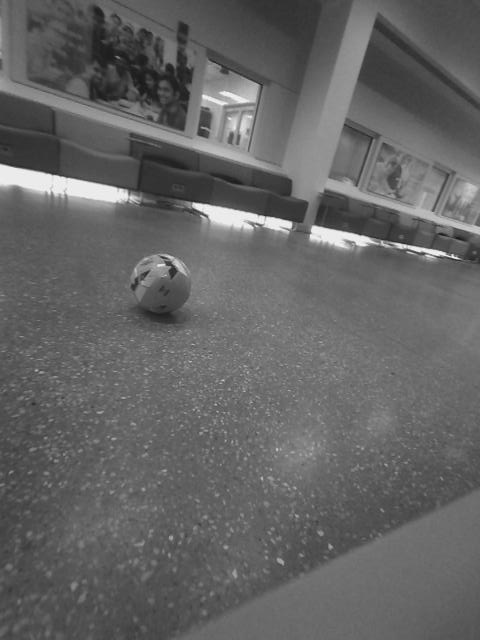ball: (1, 227, 54, 313)
